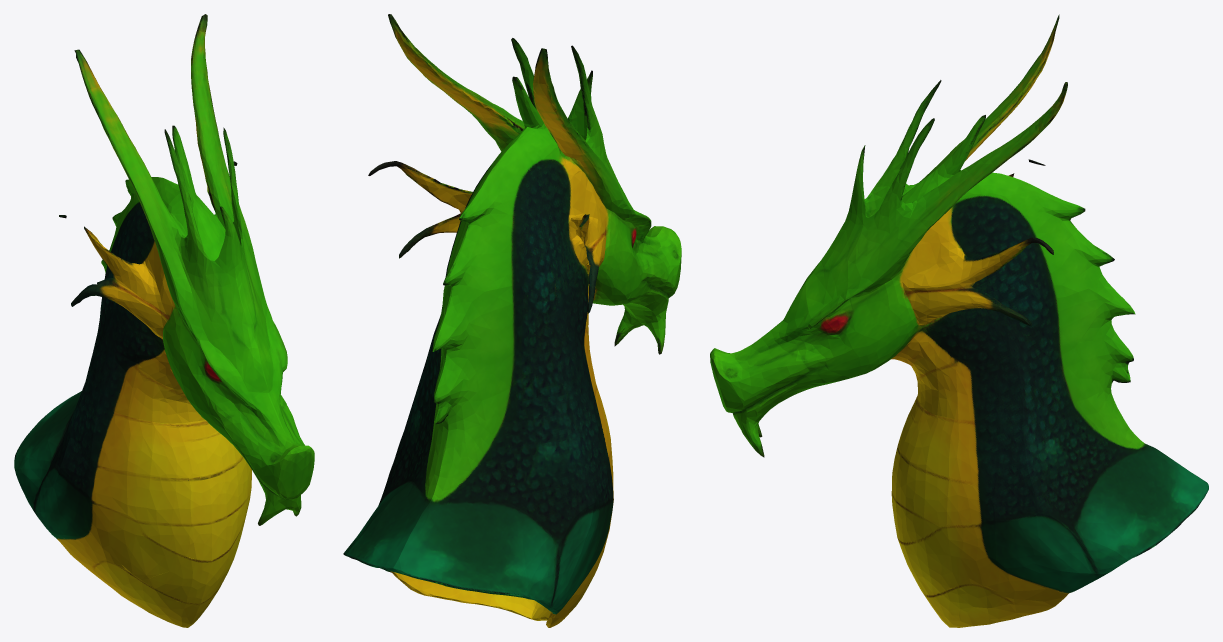
Rendered from icon.glb.
3 renders of one model, left to right at view 1: azimuth 30°, elevation 25°; view 2: azimuth 150°, elevation 25°; view 3: azimuth 270°, elevation 25°, orthographic. The views are drawn at different scales.
Parts seen in each view (by area): view 1: world; view 2: world; view 3: world.
Boxes of the visible parts, <box> form: world: <box>14,14,314,627</box>; world: <box>343,14,681,627</box>; world: <box>710,14,1208,627</box>.
Size of the model in its own units: 0.3549 by 0.9993 by 0.7758.
Materials: 1 (1 with a texture image).
